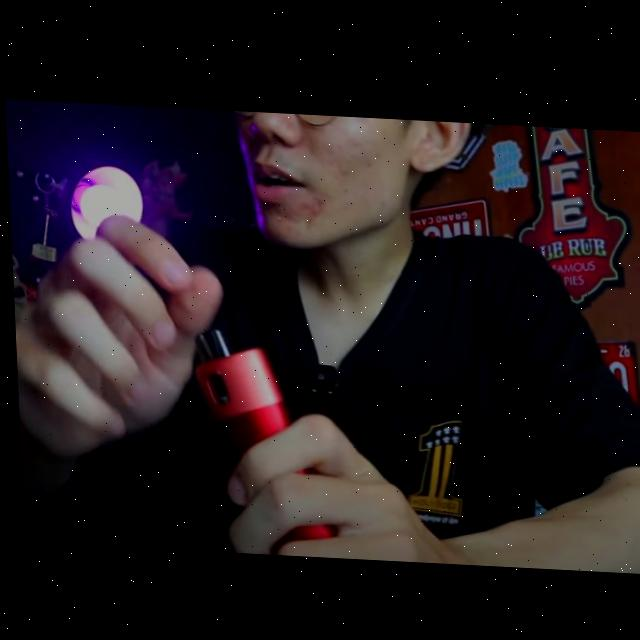vape: (189, 325, 288, 468)
